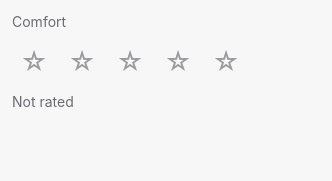
it: the rating control › offers Clear rating only once there is a rating to clear
The image size is (332, 181).
Check: the button "Clear rating" is not shown
Click the radio button named "3 of 5 — Comfortable". click: point(130, 62)
box: [108, 40, 152, 84]
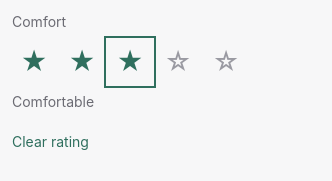
Click the button "Clear rating". click: point(50, 143)
box: [12, 121, 89, 165]
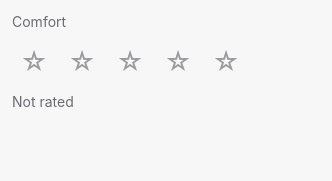
Check: the text "Not rated" is shown, box [12, 93, 74, 110]
Check: the button "Clear rating" is gone
